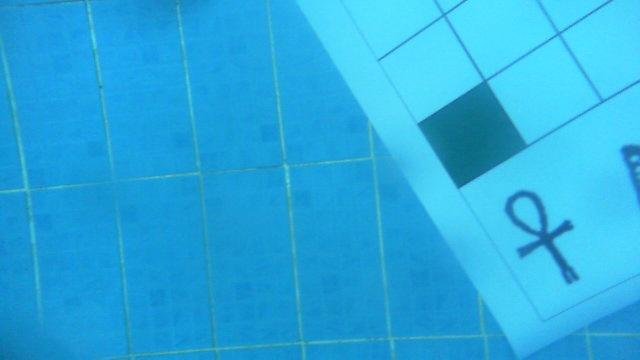Ankh: (499, 179, 588, 288)
